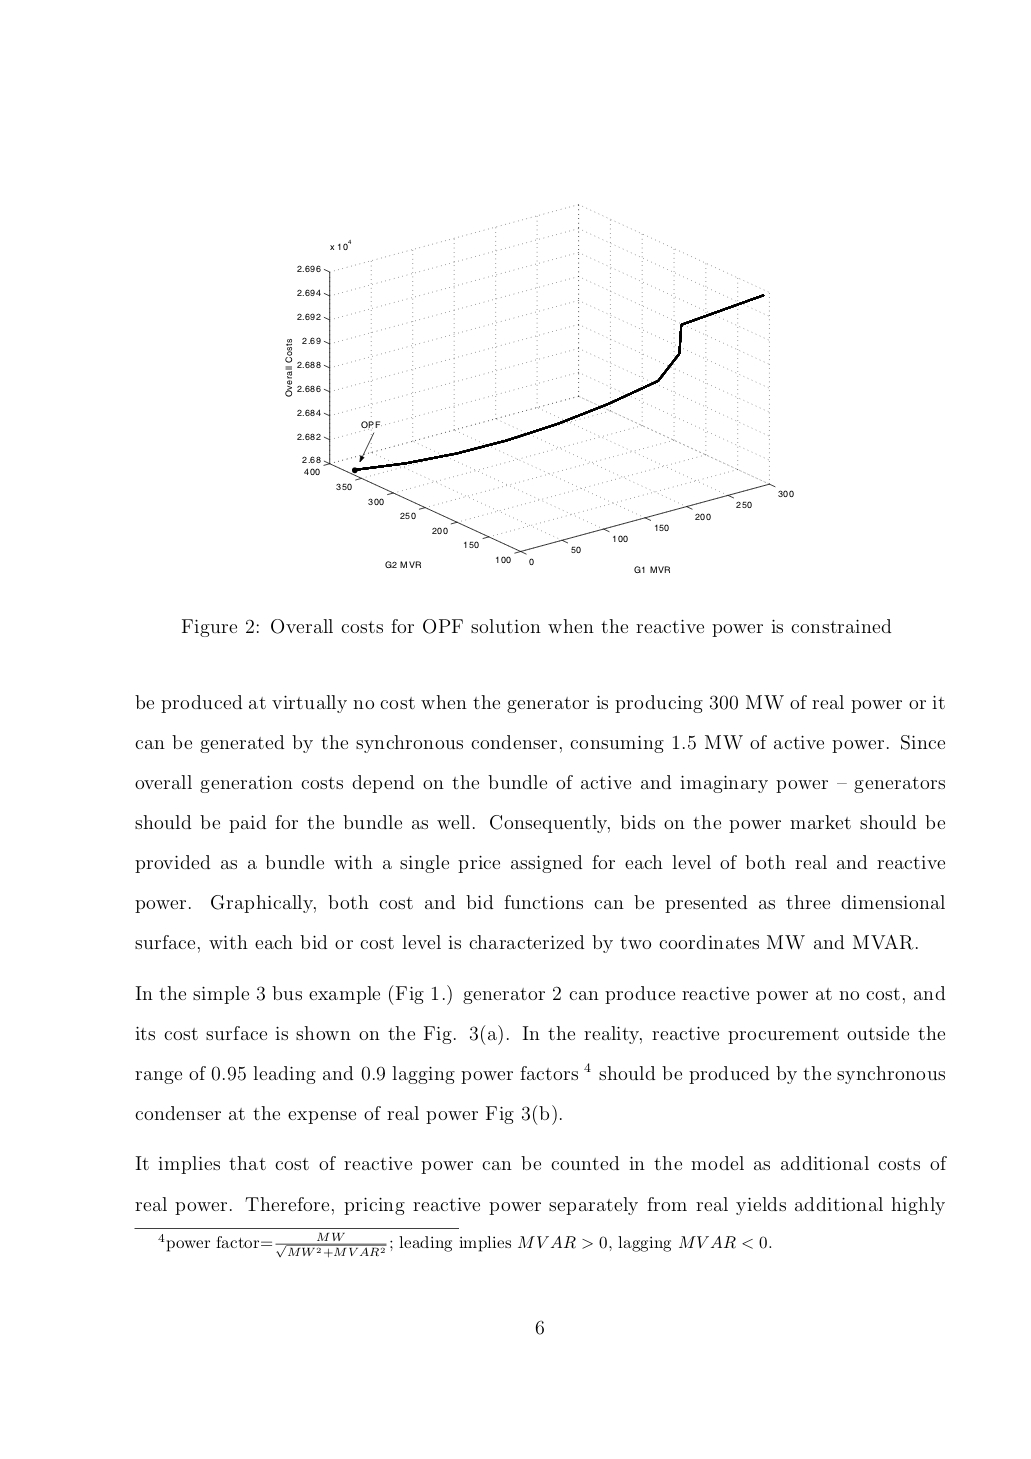figure: (285, 204, 793, 573)
